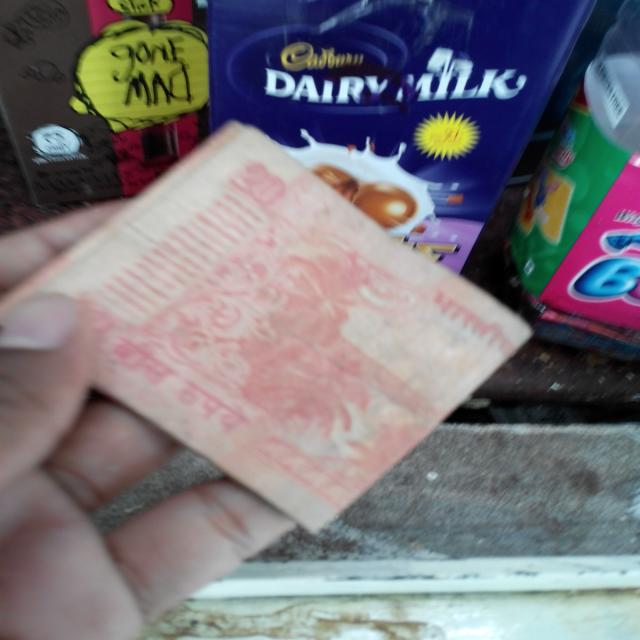20rs: (46, 144, 499, 503)
